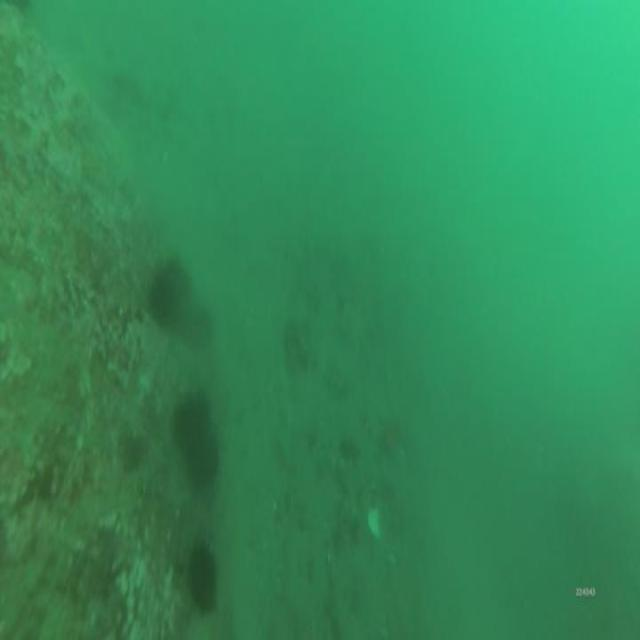echinus: (143, 253, 195, 332), (184, 534, 225, 624), (173, 382, 215, 460), (180, 419, 222, 496)
